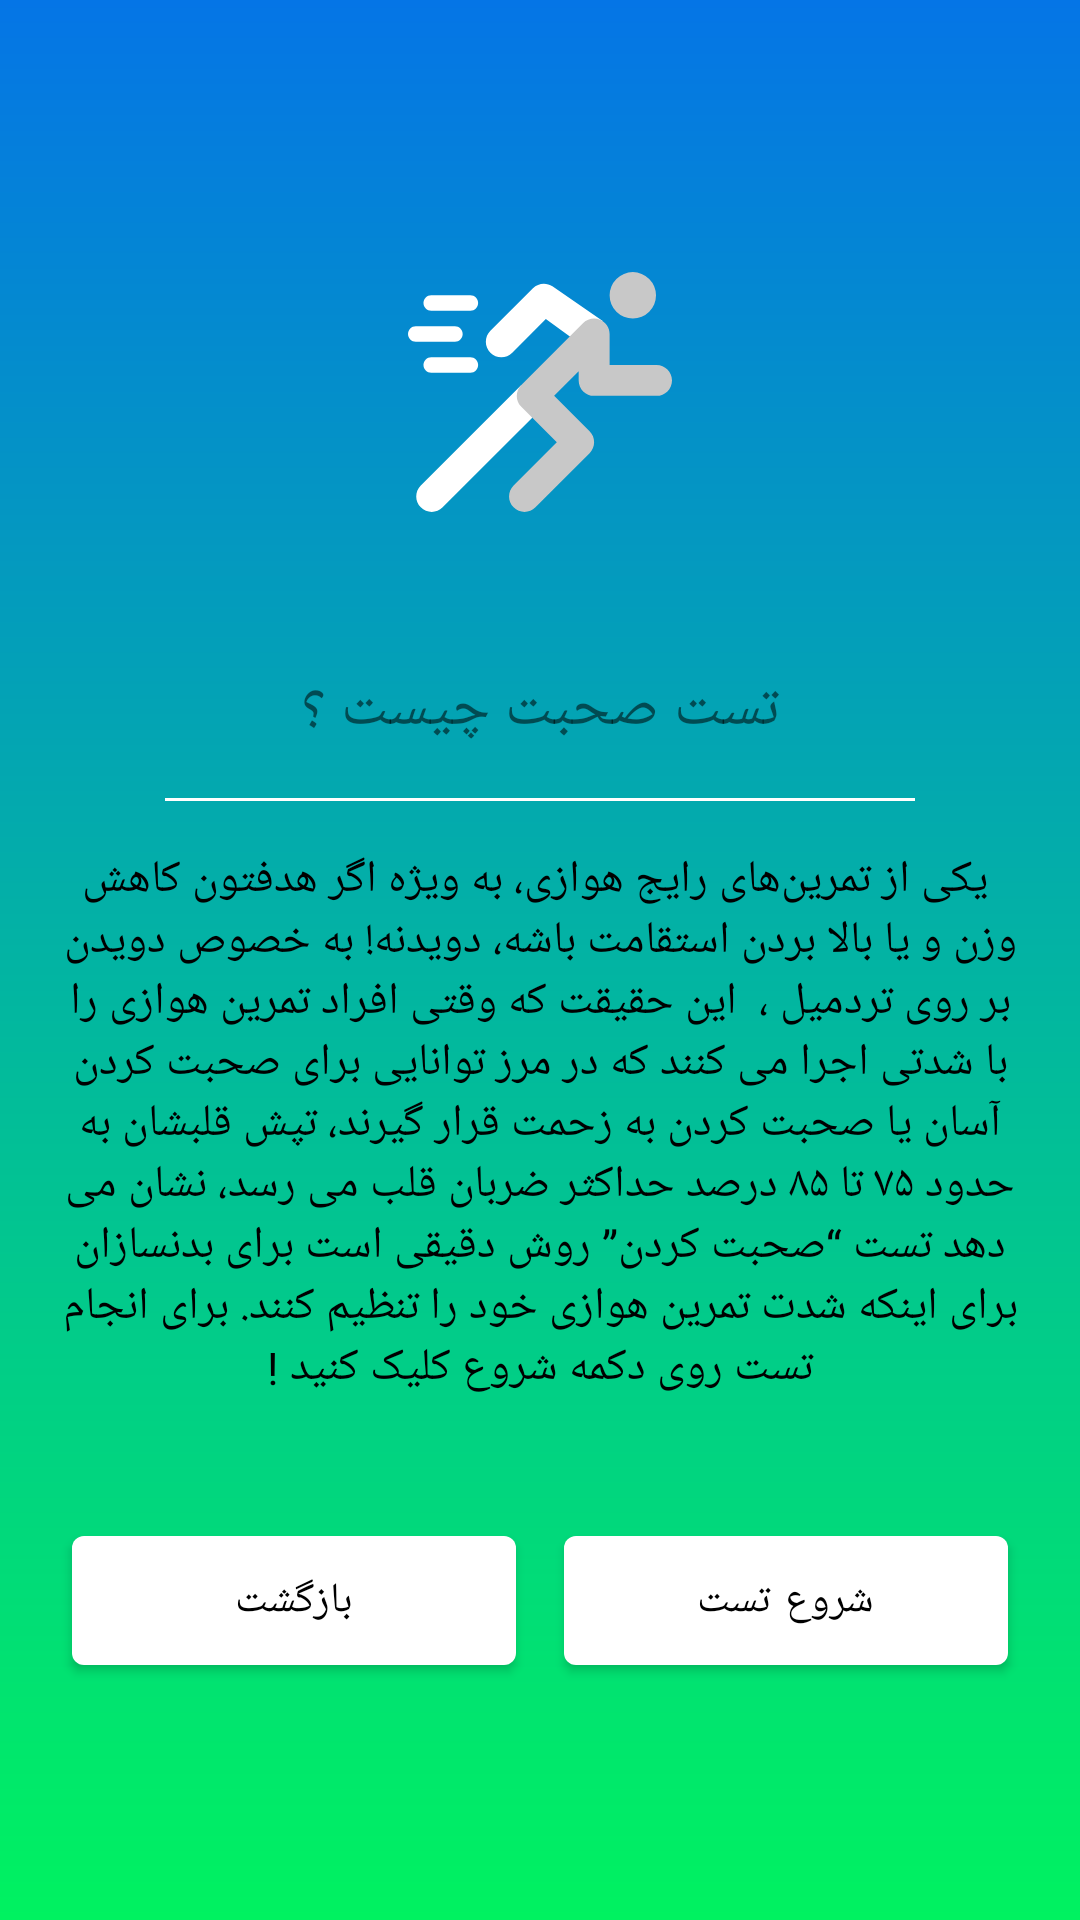

Icon click points for this 1080*1920 phone screenshot, format [x,y]:
running: [540,362]
